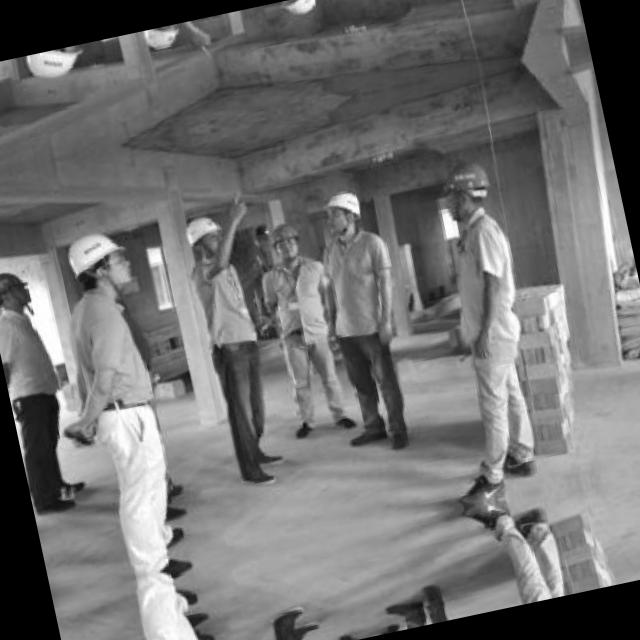helmet: (58, 222, 134, 306), (432, 152, 494, 228), (180, 203, 230, 274), (318, 182, 368, 240), (20, 44, 88, 86), (0, 260, 34, 320), (266, 214, 300, 266), (140, 22, 186, 59), (277, 0, 322, 21)
